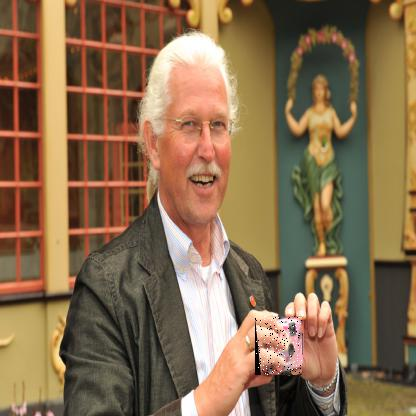Camera: (256, 317, 304, 377)
